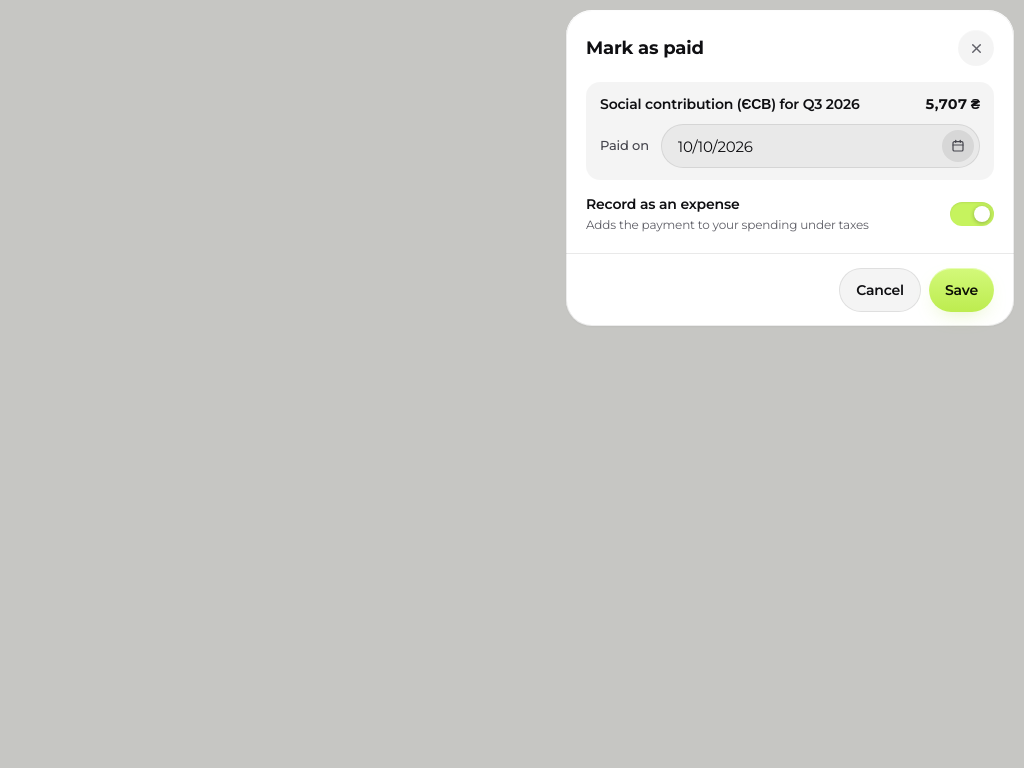
Test: TaxPaidSheet › will not take a day still to come
The width and height of the screenshot is (1024, 768).
Expected: the text "Social contribution (ЄСВ) for Q3 2026" is shown, [600, 95, 860, 113]
Replace the text in the field labelled "Paid on" with "2026-10-20" at {"x": 820, "y": 146}, box [661, 124, 980, 168]
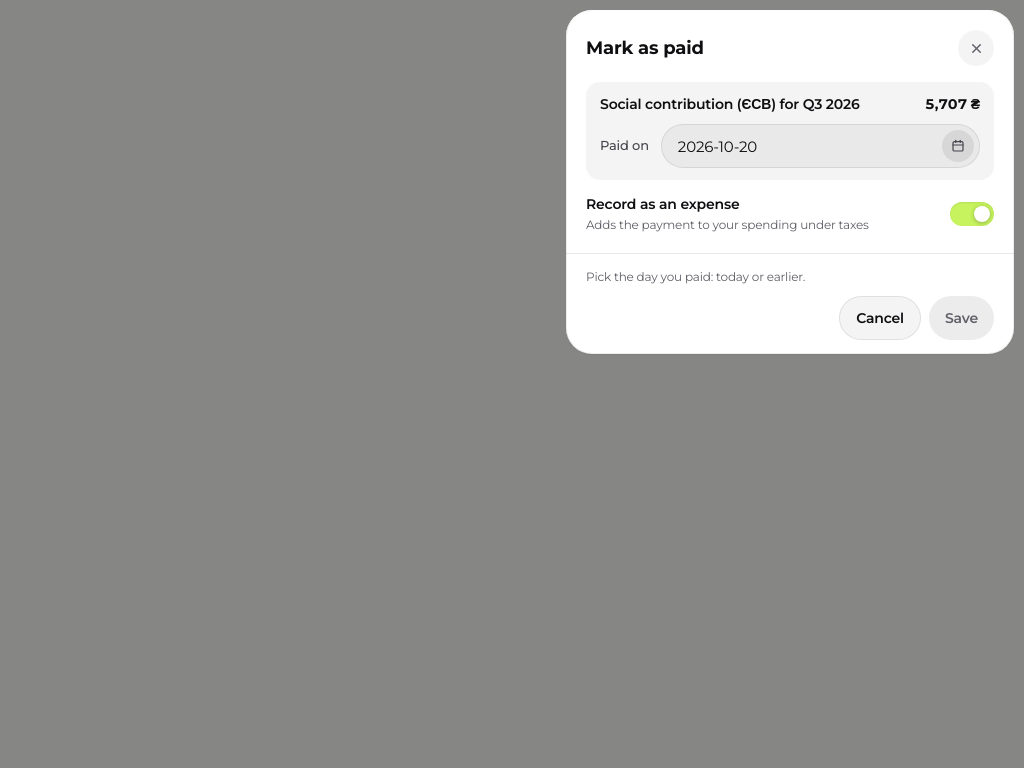
Expected: the button "Save" is disabled, [929, 296, 994, 340]
Expected: the text "Pick the day you paid: today or earlier." is shown, [586, 269, 805, 284]
